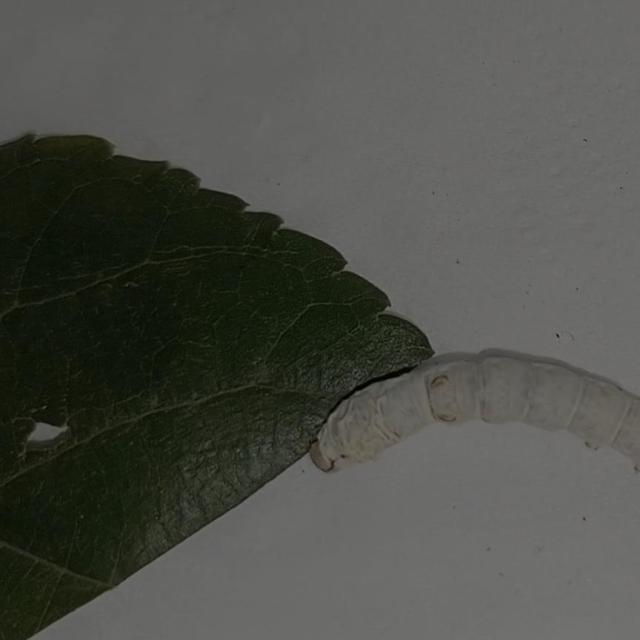Healthy: (296, 330, 640, 495)
